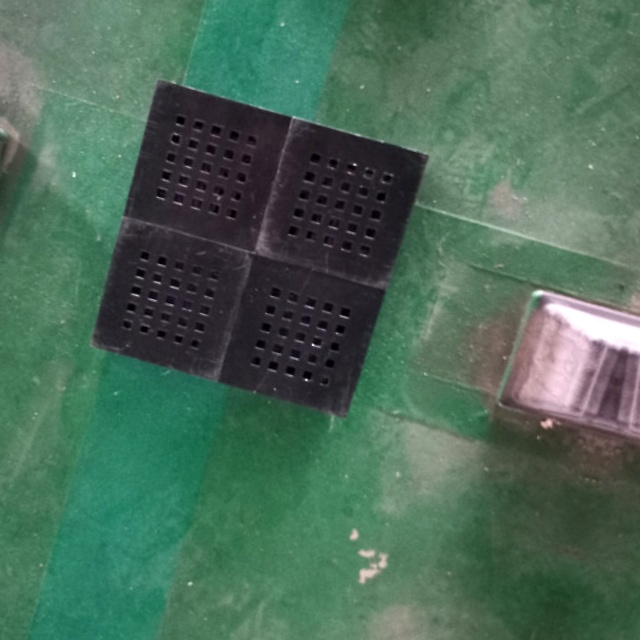pallet: (81, 69, 439, 424)
